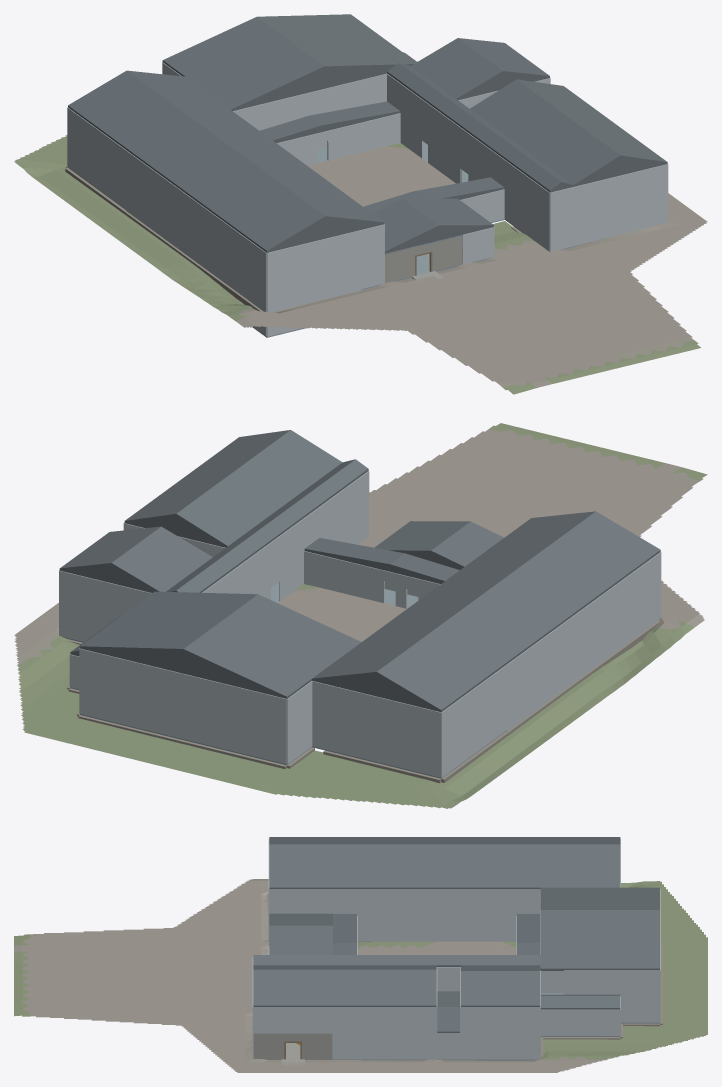
Rendered from joined-stairs.glb.
3 renders of one model, top to bottom at view 1: azimuth 30°, elevation 25°; view 2: azimuth 150°, elevation 25°; view 3: azimuth 270°, elevation 25°, orthographic. The views are drawn at different scales.
Parts seen in each view (by area): view 1: Saved editor geographic earthworks ACADEMY, west-residential-library roof west, north-dormitory roof west, west-residential-library roof east, east-teaching-stair roof west, north-dormitory roof east, Wall upper-east W, Wall upper-north S, east-cloister-spine roof west, east-teaching-stair roof east, science-upper roof west, Wall upper-main-stair S (+36 smaller); view 2: Saved editor geographic earthworks ACADEMY, west-residential-library roof west, north-dormitory roof west, west-residential-library roof east, east-teaching-stair roof west, north-dormitory roof east, Wall upper-east W, east-cloister-spine roof west, east-teaching-stair roof east, science-upper roof west, Flat route shell Wall south N.001, Wall restricted N (+42 smaller); view 3: Saved editor geographic earthworks ACADEMY, west-residential-library roof east, north-dormitory roof east, east-teaching-stair roof east, Flat route shell Wall upper-west E.001, Flat route shell Wall west E.001, east-cloister-spine roof east, science-upper roof east, west-residential-library roof west, Wall lecture E, Wall study E, north-dormitory roof west (+21 smaller).
Boxes of the visible parts, x1,y1,x2,y2 form: Saved editor geographic earthworks ACADEMY: (14, 135, 707, 394); west-residential-library roof west: (68, 70, 325, 252); north-dormitory roof west: (162, 17, 324, 110); west-residential-library roof east: (127, 70, 384, 223); east-teaching-stair roof west: (470, 79, 620, 186); north-dormitory roof east: (257, 14, 416, 67); Wall upper-east W: (387, 74, 549, 222); Wall upper-north S: (233, 73, 386, 130); east-cloister-spine roof west: (387, 63, 561, 192); east-teaching-stair roof east: (517, 79, 666, 163); science-upper roof west: (411, 38, 502, 99); Wall upper-main-stair S: (267, 230, 361, 282); Saved editor geographic earthworks ACADEMY: (14, 423, 707, 808); west-residential-library roof west: (376, 511, 660, 711); north-dormitory roof west: (183, 594, 361, 698); west-residential-library roof east: (312, 511, 595, 680); east-teaching-stair roof west: (176, 430, 342, 546); north-dormitory roof east: (80, 591, 257, 650); Wall upper-east W: (202, 471, 369, 593); east-cloister-spine roof west: (176, 459, 368, 592); east-teaching-stair roof east: (124, 430, 290, 522); science-upper roof west: (111, 526, 212, 591); Flat route shell Wall south N.001: (304, 551, 384, 602); Wall restricted N: (59, 570, 151, 617); Saved editor geographic earthworks ACADEMY: (14, 879, 707, 1072); west-residential-library roof east: (269, 844, 620, 889); north-dormitory roof east: (540, 910, 659, 969); east-teaching-stair roof east: (253, 969, 436, 1007); Flat route shell Wall upper-west E.001: (269, 889, 539, 915); Flat route shell Wall west E.001: (357, 915, 515, 941); east-cloister-spine roof east: (253, 955, 540, 966); science-upper roof east: (460, 971, 540, 1007); west-residential-library roof west: (269, 837, 620, 844); Wall lecture E: (333, 1033, 436, 1059); Wall study E: (333, 1007, 436, 1033); north-dormitory roof west: (540, 887, 659, 909).
Size of the model in its own units: 58 by 13.1 by 87.
32 materials, 21 textured.
